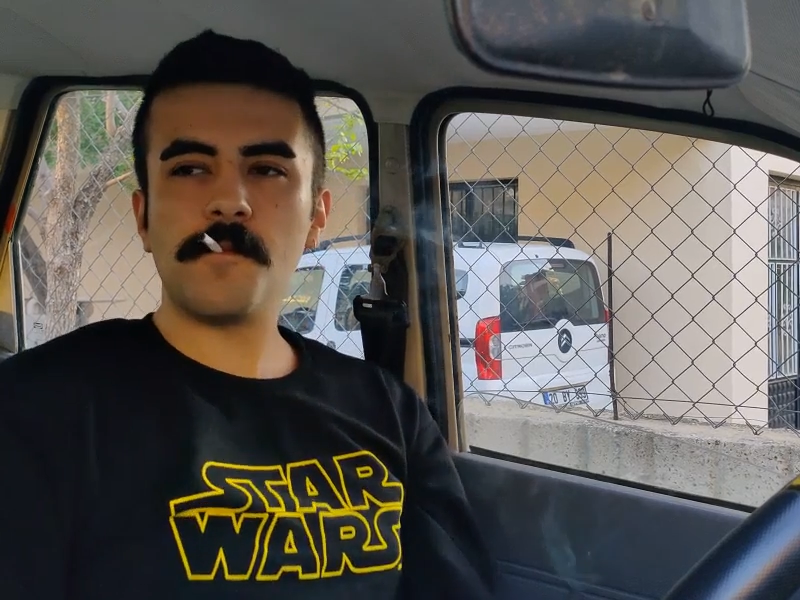sigara: (195, 231, 224, 253)
